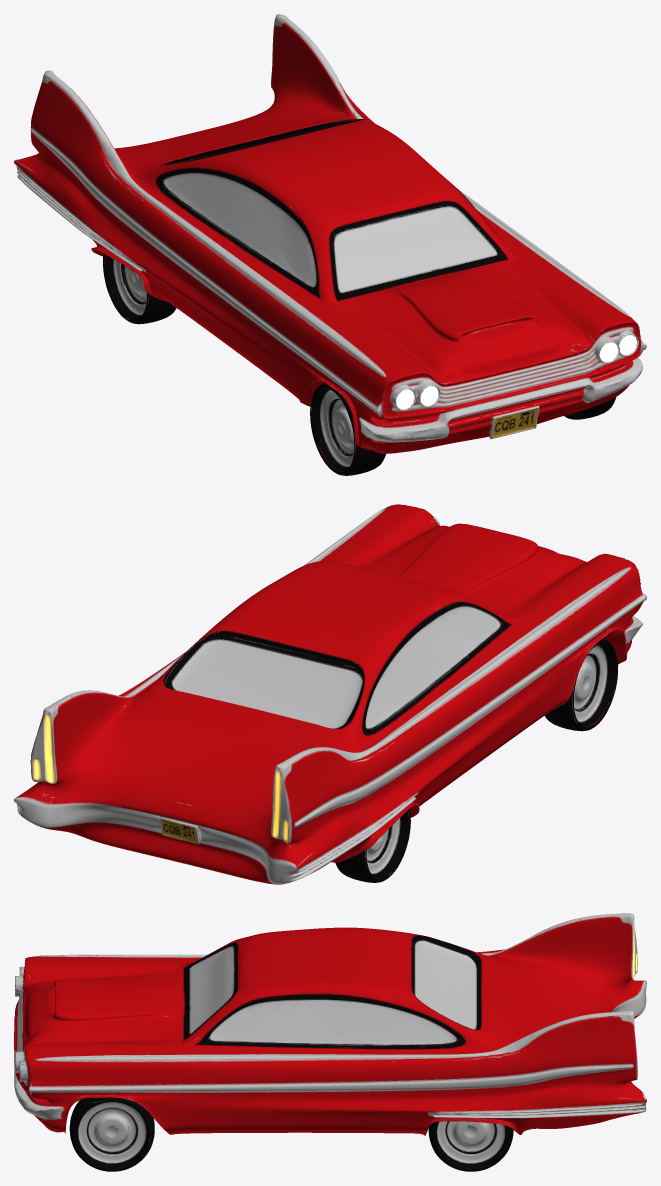
The picture shows the model from 3 angles, top to bottom: view 1: azimuth 30°, elevation 25°; view 2: azimuth 150°, elevation 25°; view 3: azimuth 270°, elevation 25°; orthographic projection. The views are drawn at different scales.
Parts seen in each view (by area): view 1: RetroCar; view 2: RetroCar; view 3: RetroCar.
Boxes of the visible parts, box(x1,y1,x2,y2) form: RetroCar: box(14, 14, 646, 475); RetroCar: box(14, 504, 646, 884); RetroCar: box(14, 913, 646, 1171).
Size of the model in its own units: 4.9 by 3.04 by 10.69.
1 material, 1 textured.
